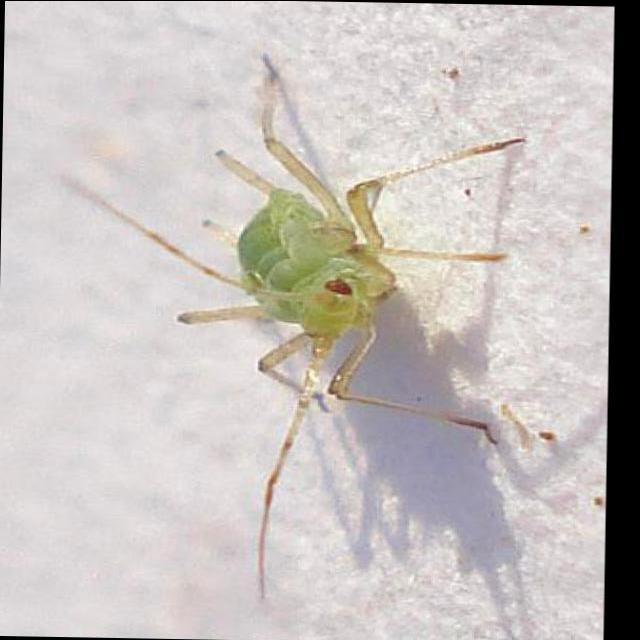aphid: (145, 102, 518, 542)
